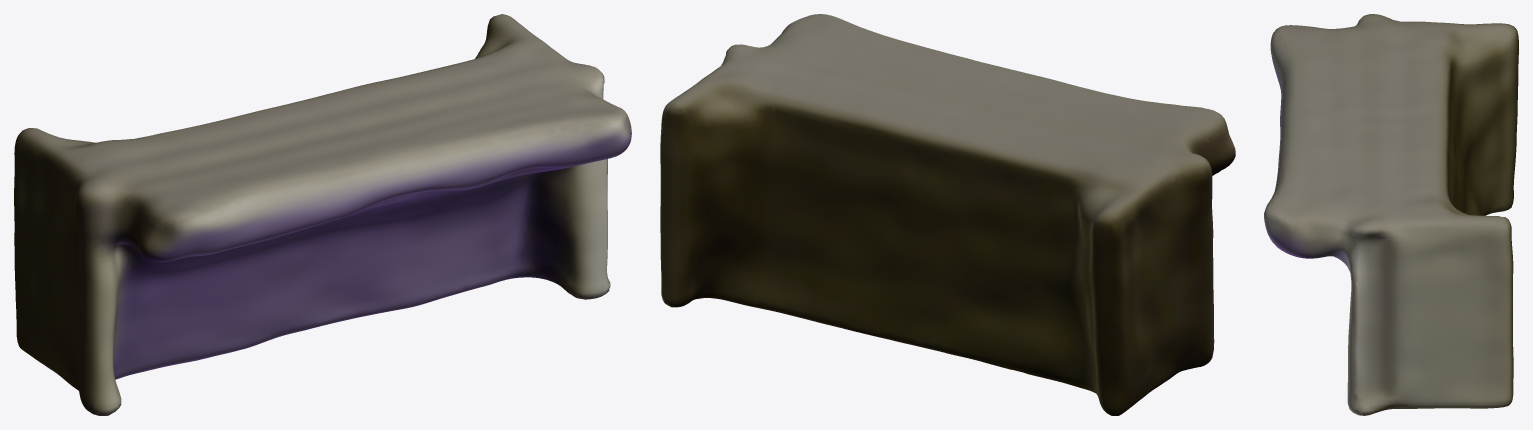
File: sofa.glb
3 renders of one model, left to right at view 1: azimuth 30°, elevation 25°; view 2: azimuth 150°, elevation 25°; view 3: azimuth 270°, elevation 25°, orthographic. The views are drawn at different scales.
Bounding box in the file's own units: 0.9982 × 0.4189 × 0.4926.
